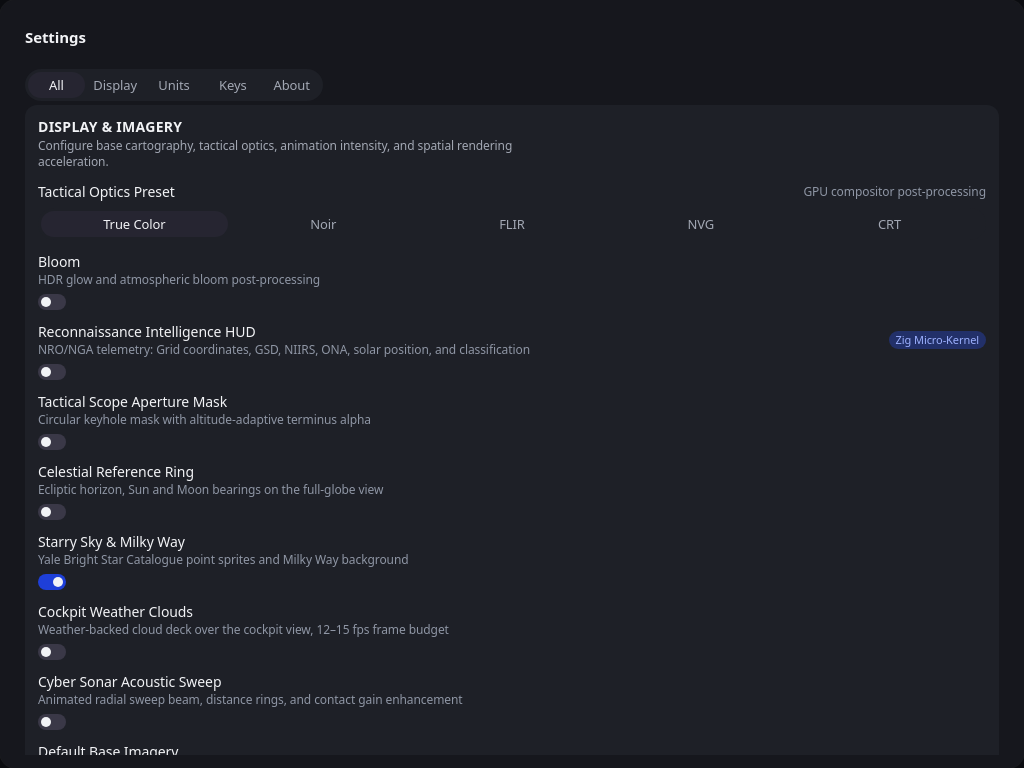
SettingsPanel › toggles bloom and adjusts bloom intensity slider
Expected: the field labelled "bloom intensity" is not shown
Click the switch named "enable bloom" at (52, 302), box [38,294,66,310]
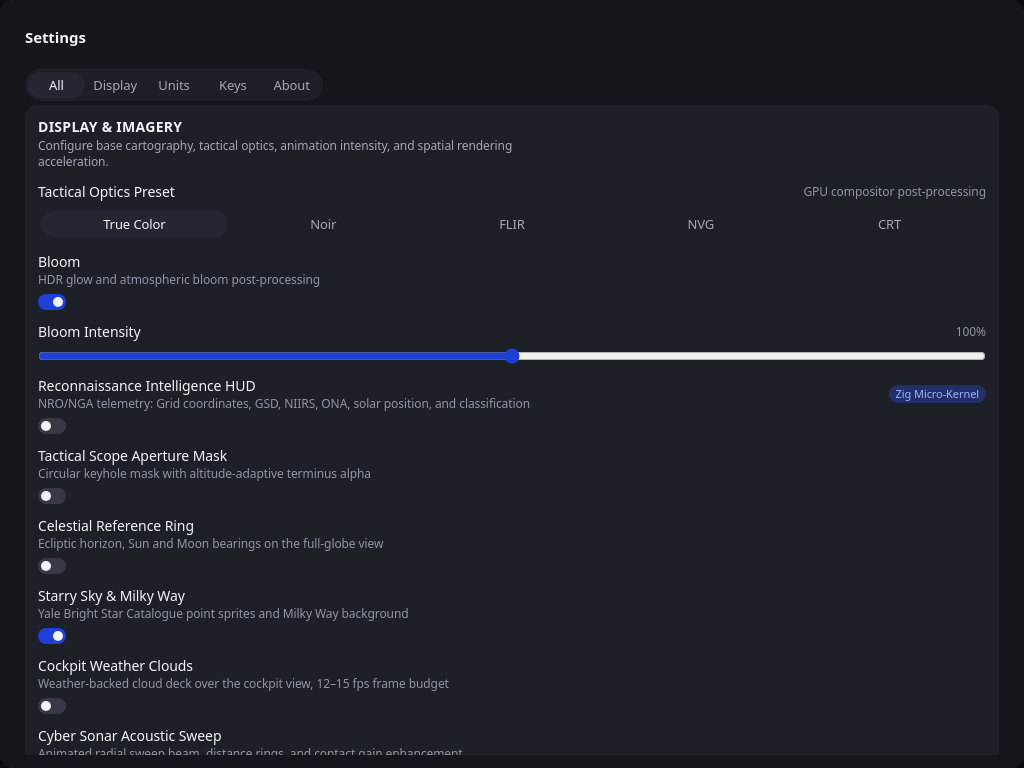
Expected: the switch named "enable bloom" is checked, [38,294,66,310]
Expected: the slider named "bloom intensity" is shown
Expected: the slider named "bloom intensity" holds "100"
Set the slider named "bloom intensity" to "160" at (792, 356), box [38,348,986,364]
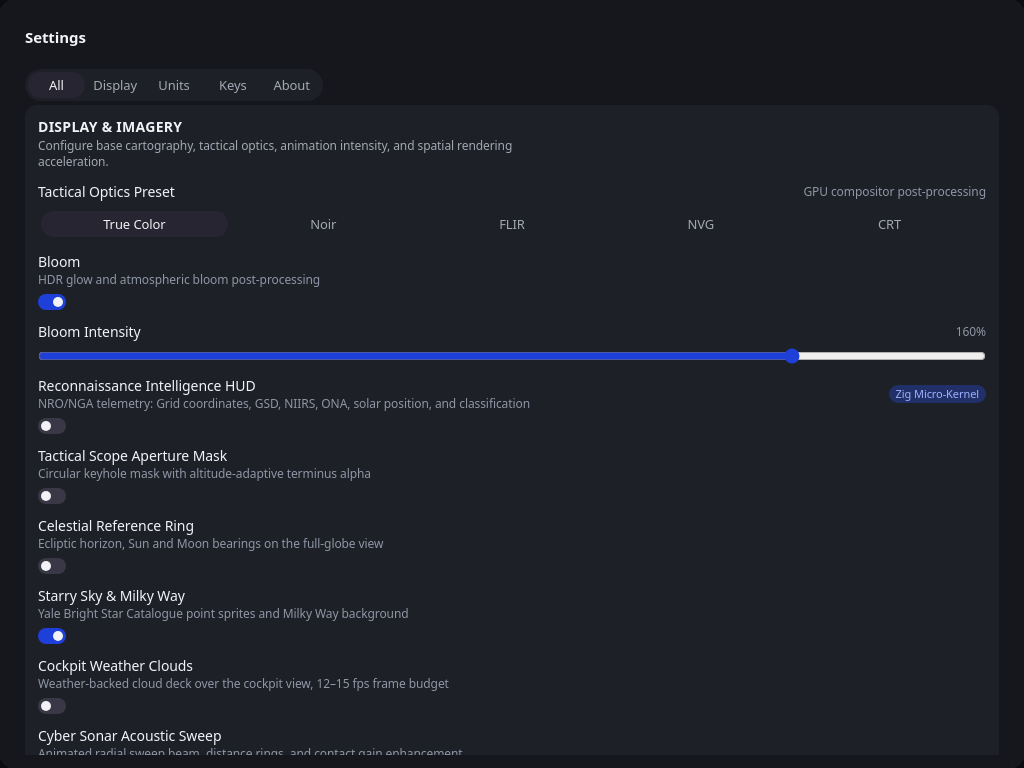
Expected: the text "160%" is shown, [956,324,986,340]
